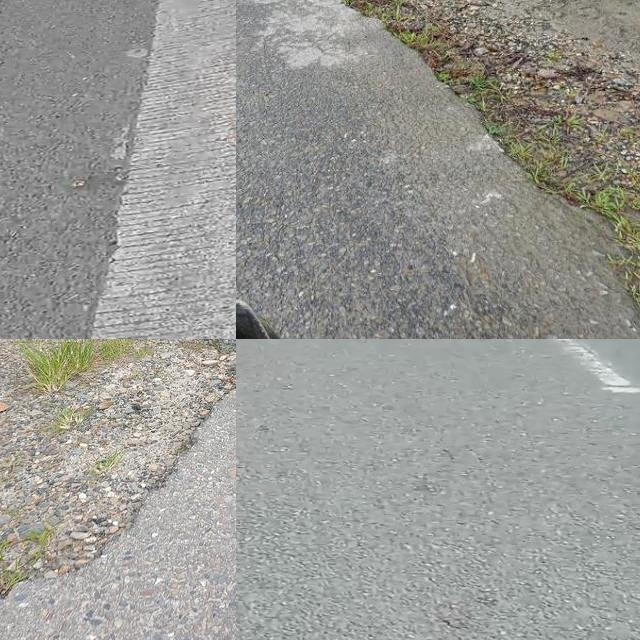Pinggir: (308, 0, 640, 339), (0, 339, 236, 640)
Sambungan: (93, 0, 236, 339)
